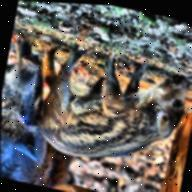boar: (24, 13, 192, 192)
